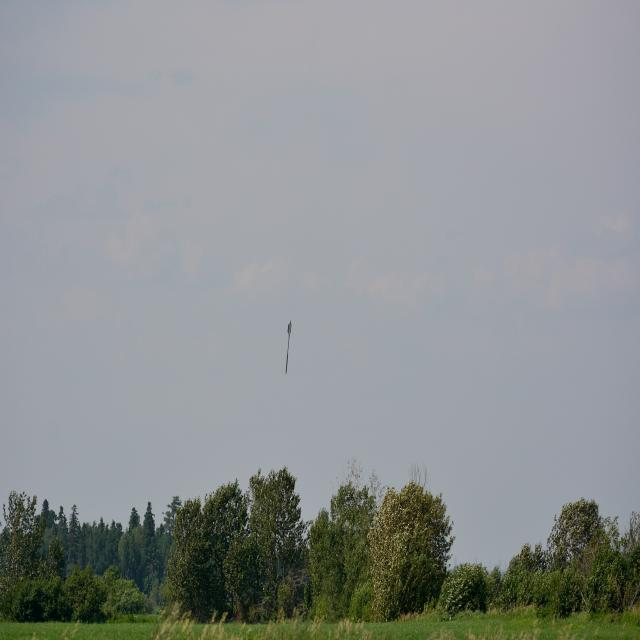Rocket: (285, 320, 292, 376)
